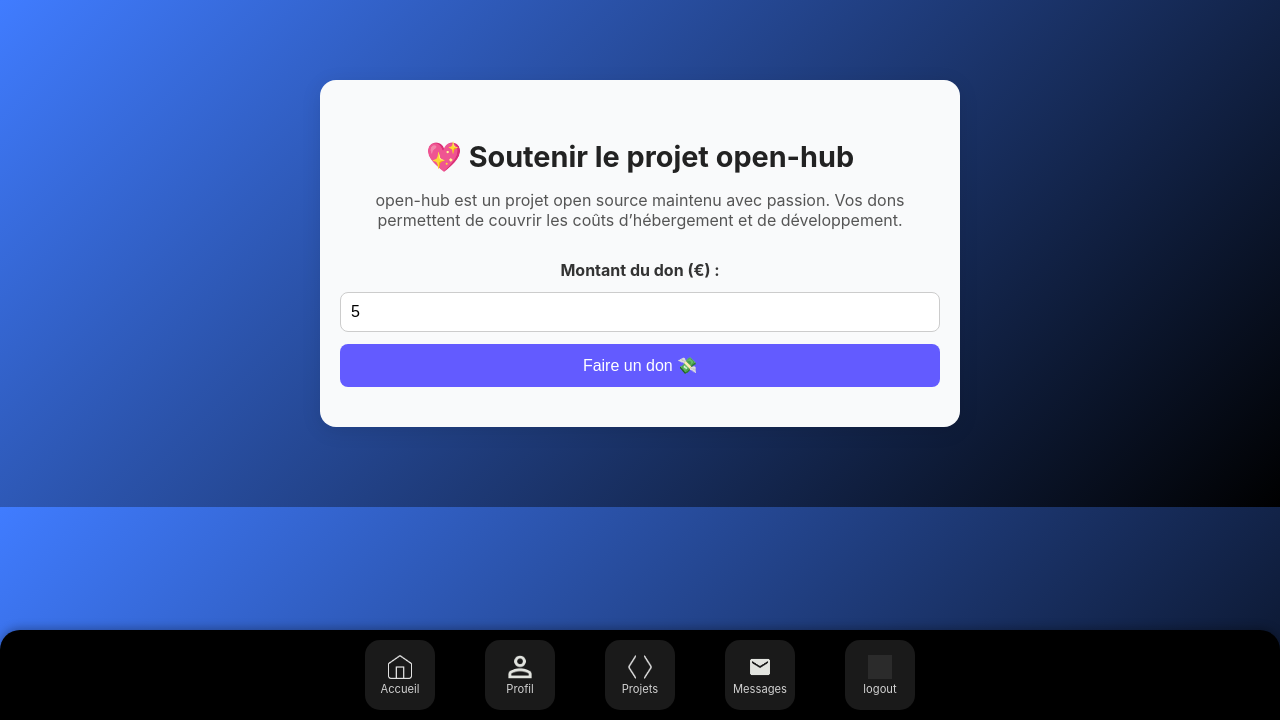
Test case: DonatePage Component › Gestion des erreurs › affiche une erreur réseau
This screenshot has width=1280, height=720.
Click the button "Faire un don 💸": point(640, 366) [340, 344, 940, 387]
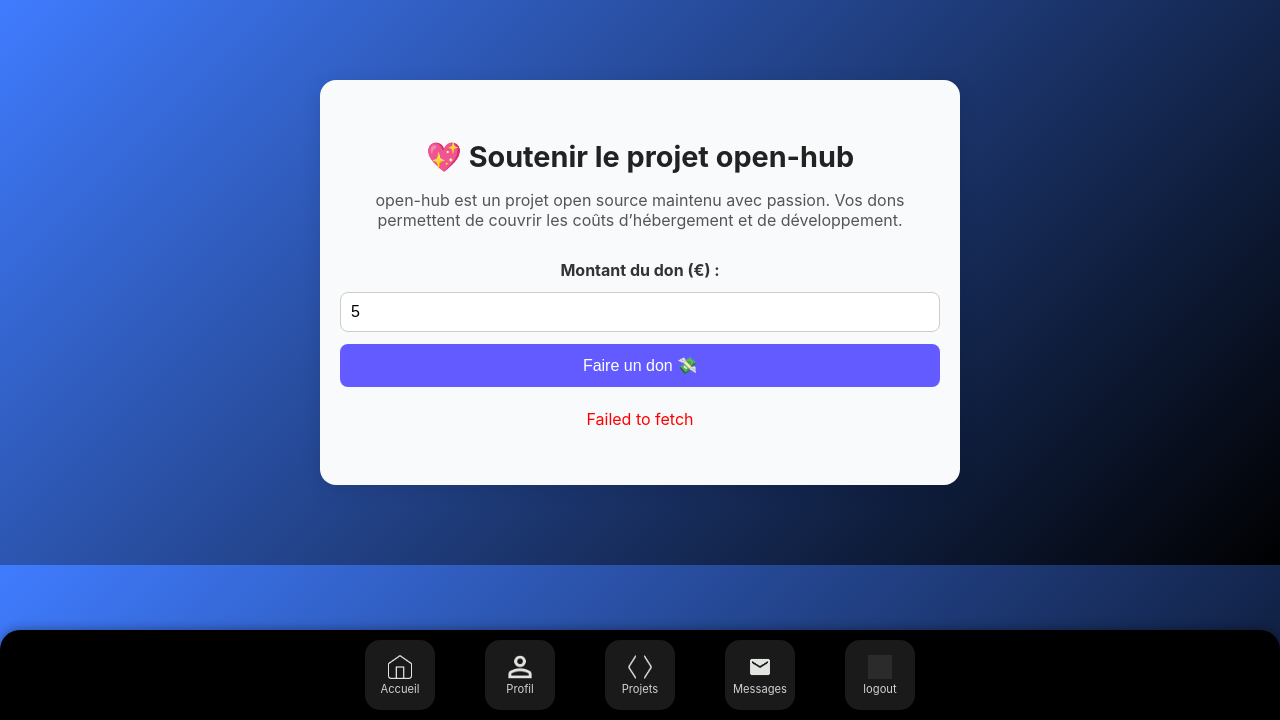
Expected: the text "Failed to fetch" is shown, [586, 409, 694, 429]
